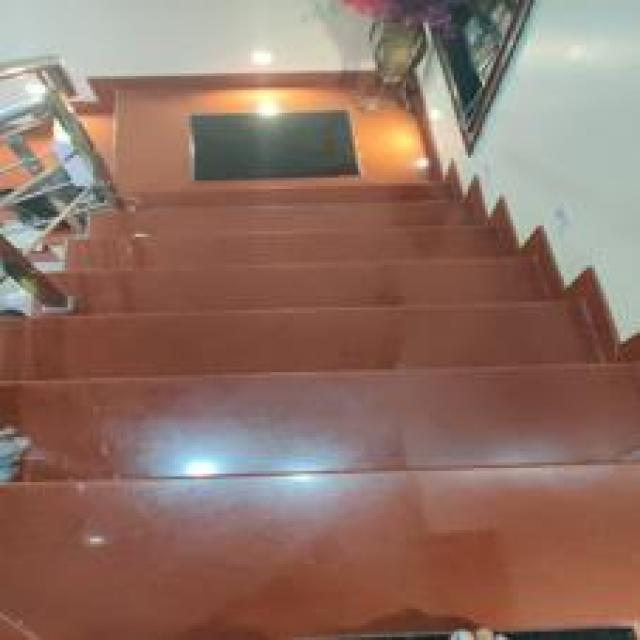stair: (4, 87, 640, 617)
